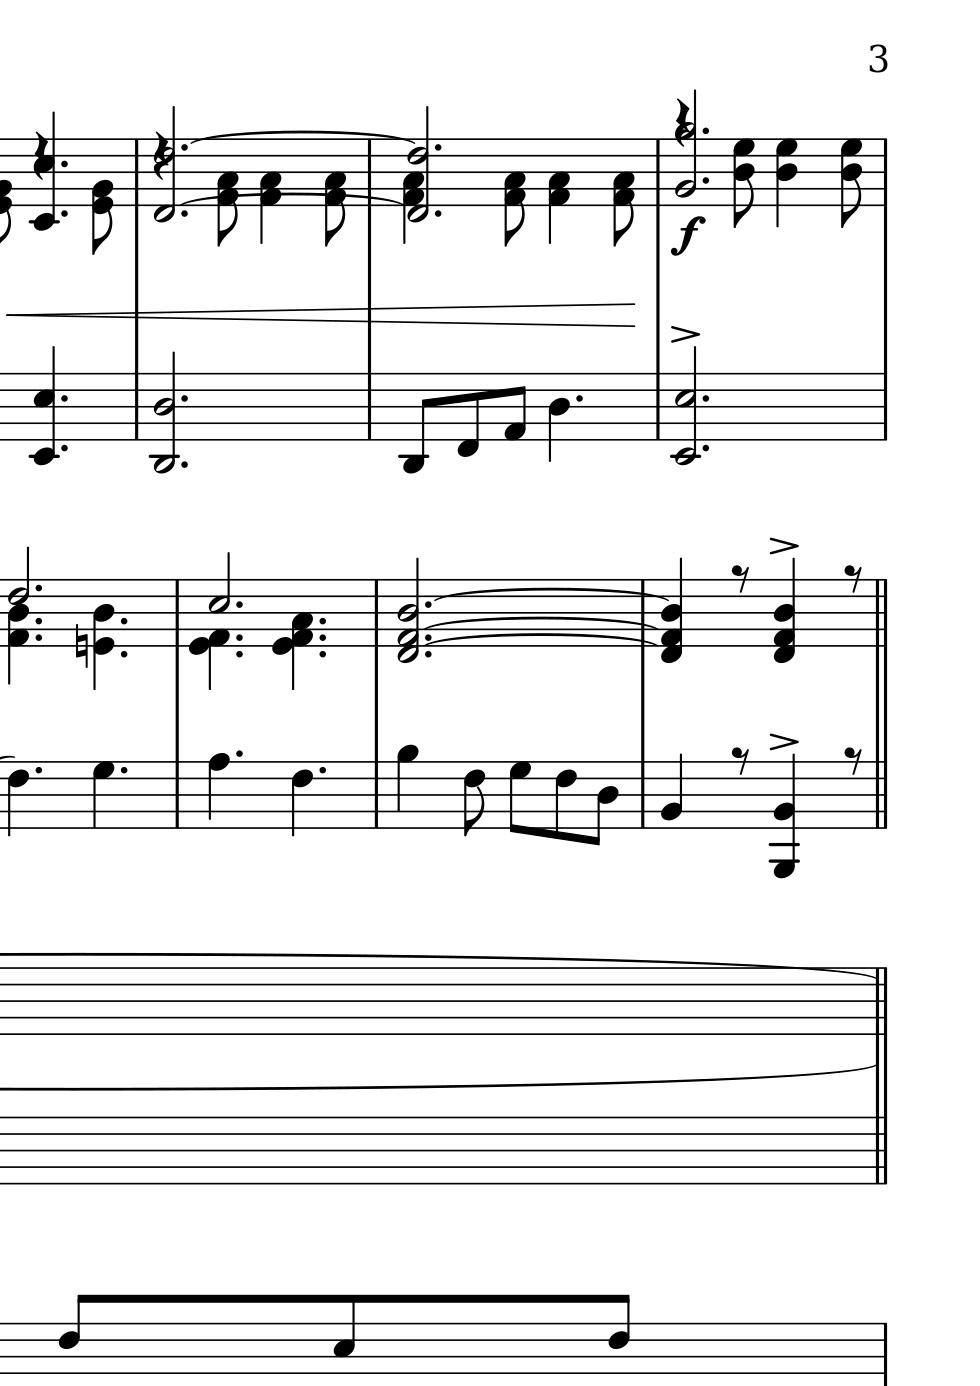2_-2_5: (670, 344, 703, 468)
2_-3_4: (148, 351, 183, 473)
3: (867, 42, 888, 74)
4_-2_5: (27, 345, 62, 466)
4_-5_2: (769, 752, 801, 880)
4_0_4: (93, 576, 117, 692)
4_1_3: (258, 137, 283, 245), (546, 136, 571, 244)
4_2: (658, 751, 684, 830)
4_4: (545, 372, 570, 463)
4_4_7: (773, 135, 800, 230)
4_6: (288, 760, 314, 838), (5, 760, 30, 837)
4_7: (90, 760, 115, 831)
4_8: (205, 752, 229, 831)
4_9: (393, 743, 419, 831)
4_th: (770, 557, 799, 667), (658, 555, 685, 667)
8_-1: (455, 369, 480, 460)
8_-3: (399, 371, 430, 476)
8_0_2: (89, 136, 113, 256)
8_1: (502, 371, 528, 443)
8_1_3: (323, 137, 349, 248), (502, 136, 527, 247), (611, 137, 636, 248), (215, 136, 239, 247)
8_4: (588, 760, 620, 848)
8_4_7: (732, 136, 759, 231), (838, 136, 865, 231)
8_5: (331, 1292, 357, 1382)
8_6: (57, 1292, 90, 1385), (606, 1293, 631, 1378), (553, 759, 577, 843), (461, 759, 486, 838)
8_7: (507, 758, 530, 835)
Accent_above: (766, 730, 799, 753), (669, 322, 701, 345), (766, 536, 799, 556)
Crescendo_hairpin: (3, 301, 636, 328)
Double_barline: (868, 1117, 892, 1185), (869, 762, 892, 829), (870, 968, 892, 1035), (870, 579, 891, 647)
Natural: (72, 622, 89, 672)
Rests8: (729, 563, 751, 594), (842, 563, 864, 594), (729, 745, 751, 776), (842, 745, 863, 776)
Single_barline: (875, 374, 893, 440), (876, 137, 893, 205), (635, 579, 652, 647), (128, 139, 145, 206), (128, 374, 145, 440), (169, 762, 186, 827), (368, 762, 385, 827), (635, 761, 651, 828), (361, 141, 378, 204), (650, 139, 666, 205), (876, 1323, 893, 1385), (361, 374, 377, 439), (169, 581, 185, 646), (369, 579, 384, 647), (650, 373, 665, 440)
Slur: (433, 587, 668, 603), (424, 617, 660, 629), (430, 633, 658, 645)
dot: (233, 628, 245, 649), (422, 644, 432, 664), (431, 141, 444, 155), (178, 392, 191, 407), (572, 392, 587, 405), (315, 762, 328, 777), (58, 441, 71, 455), (699, 441, 712, 455), (232, 597, 245, 611), (117, 764, 129, 777), (233, 747, 245, 761), (432, 207, 444, 220), (59, 392, 71, 406), (32, 764, 43, 777), (698, 125, 711, 137), (58, 157, 70, 170), (178, 458, 190, 471), (32, 582, 43, 595), (32, 615, 45, 627), (33, 631, 45, 644), (234, 647, 246, 660), (316, 647, 329, 659), (118, 648, 130, 660), (177, 141, 189, 153), (233, 631, 245, 643), (58, 207, 69, 220), (700, 392, 711, 405), (421, 598, 432, 611), (119, 614, 129, 627), (178, 208, 189, 220), (422, 648, 433, 660), (699, 175, 710, 186), (317, 615, 327, 627), (316, 632, 328, 642), (423, 632, 433, 643)
f: (670, 215, 706, 257)
